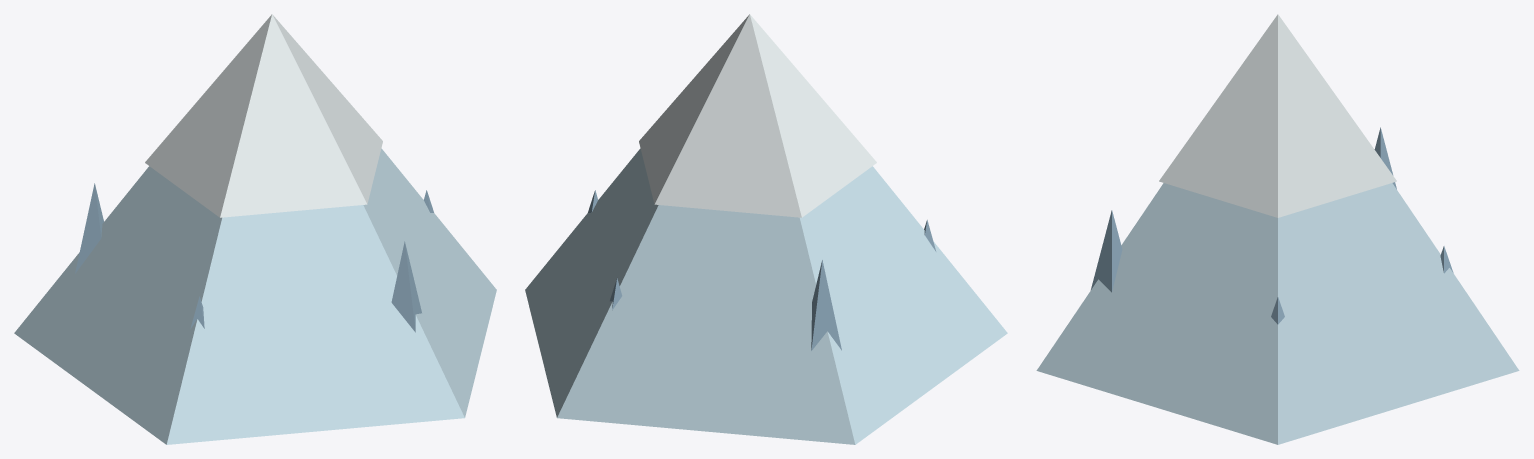
Rendered from iceberg.glb.
3 views of the same model, side by side, from view 1: azimuth 30°, elevation 25°; view 2: azimuth 150°, elevation 25°; view 3: azimuth 270°, elevation 25° (orthographic). The views are drawn at different scales.
Parts seen in each view (by area): view 1: iceberg; view 2: iceberg; view 3: iceberg.
Part boxes in pixels (x1,y1,x2,y2): iceberg: (14,14,496,444); iceberg: (525,14,1007,444); iceberg: (1036,14,1519,444).
Bounding box in the file's own units: 5.79 × 4.5 × 6.09.
